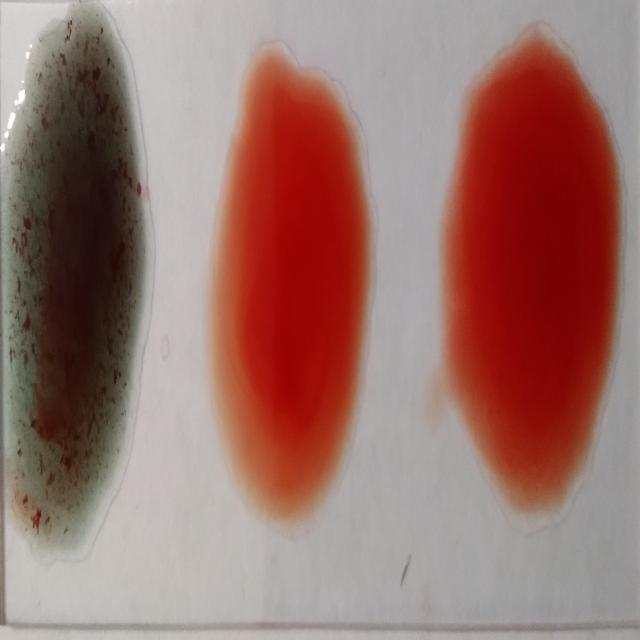A: (6, 12, 151, 567)
